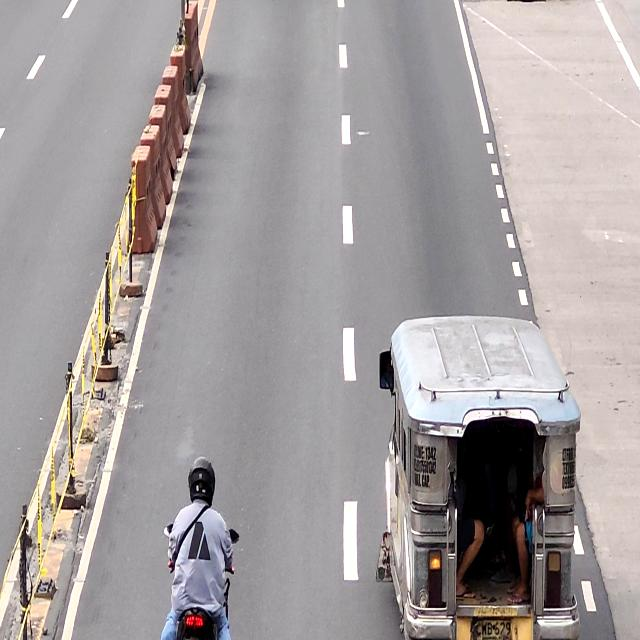Jeep: (378, 313, 582, 640)
License-Plate: (474, 618, 511, 640)
Motorcycle: (165, 521, 239, 640)
